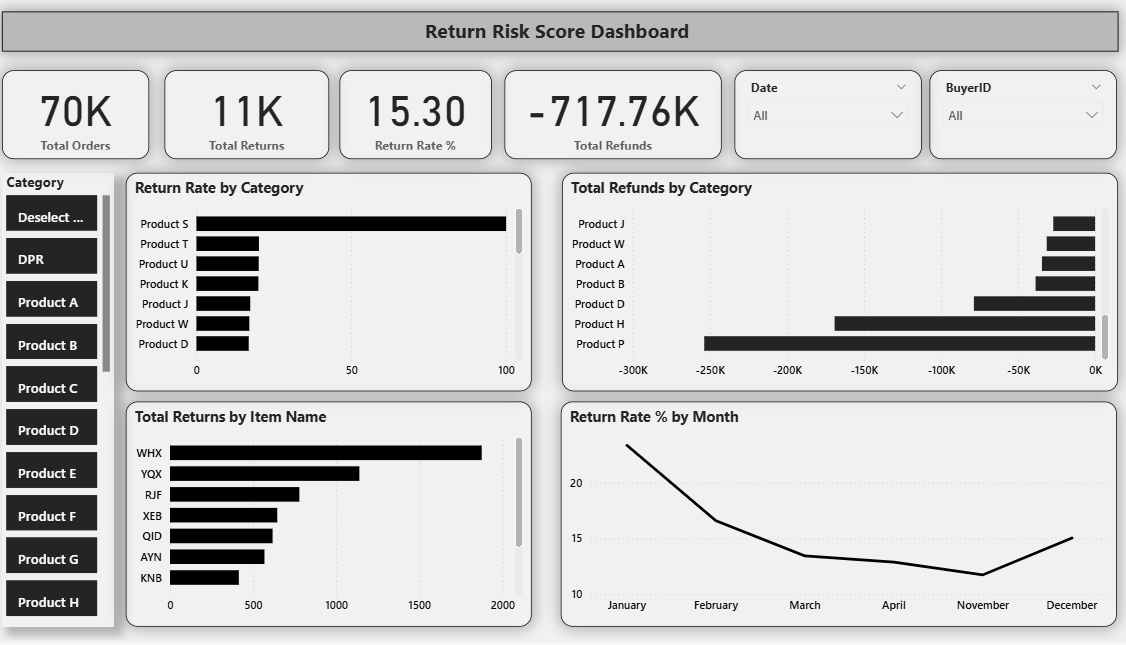

The page's visual inventory and layout, read from the dashboard file:
{"tool":"powerbi","page":{"name":"Page 1","canvas":[1280,720],"ordinal":0},"visuals":[{"type":"card","fields":{"Values":["order_dataset.Total Orders"]},"box":[22,94.7,161.9,97.4],"z":0},{"type":"card","fields":{"Values":["order_dataset.Total Returns"]},"box":[200.3,94.7,181.1,97.4],"z":1000},{"type":"card","fields":{"Values":["order_dataset.Return Rate %"]},"box":[392.5,94.7,167.4,97.4],"z":2000},{"type":"card","fields":{"Values":["order_dataset.Total Refunds"]},"box":[573.6,94.7,238.8,97.4],"z":3000},{"type":"clusteredBarChart","fields":{"Category":["order_dataset.Category"],"Y":["order_dataset.Return_Rate %"]},"box":[157.8,207.2,446,240.1],"z":4000},{"type":"barChart","fields":{"Category":["order_dataset.Category"],"Y":["order_dataset.Total Refunds"]},"box":[636.7,207.2,610.6,240.1],"z":5000},{"type":"lineChart","fields":{"Category":["order_dataset.Date.Variation.Date Hierarchy.Month"],"Y":["order_dataset.Return Rate %"]},"box":[635.3,458.3,610.6,247],"z":6000},{"type":"advancedSlicerVisual","fields":{"Values":["order_dataset.Category"]},"box":[22,207.2,123.5,498.1],"z":7000},{"type":"slicer","fields":{"Values":["order_dataset.Date"]},"box":[826.1,94.7,205.8,97.4],"z":8000},{"type":"slicer","fields":{"Values":["order_dataset.Buyer_ID"]},"box":[1040.1,94.7,205.8,97.4],"z":9000},{"type":"clusteredBarChart","title":"Total Returns by Item Name","fields":{"Category":["order_dataset.Item_Name"],"Y":["order_dataset.Total Returns"]},"box":[157.8,458.3,446,247],"z":9001},{"type":"textbox","box":[22,30.2,1225.4,43.9],"z":9002}]}

Visuals, with their boxes in screenshot pixels (x1, y1, x2, y2), scaled from the page's 1280x720 canvas onto the 1126x645 screenshot:
card - order_dataset.Total Orders: region(19, 85, 162, 172)
card - order_dataset.Total Returns: region(176, 85, 336, 172)
card - order_dataset.Return Rate %: region(345, 85, 493, 172)
card - order_dataset.Total Refunds: region(505, 85, 715, 172)
clusteredBarChart - order_dataset.Category x order_dataset.Return_Rate %: region(139, 186, 531, 401)
barChart - order_dataset.Category x order_dataset.Total Refunds: region(560, 186, 1097, 401)
lineChart - order_dataset.Date.Variation.Date Hierarchy.Month x order_dataset.Return Rate %: region(559, 411, 1096, 632)
advancedSlicerVisual - order_dataset.Category: region(19, 186, 128, 632)
slicer - order_dataset.Date: region(727, 85, 908, 172)
slicer - order_dataset.Buyer_ID: region(915, 85, 1096, 172)
"Total Returns by Item Name" clusteredBarChart: region(139, 411, 531, 632)
textbox: region(19, 27, 1097, 66)
